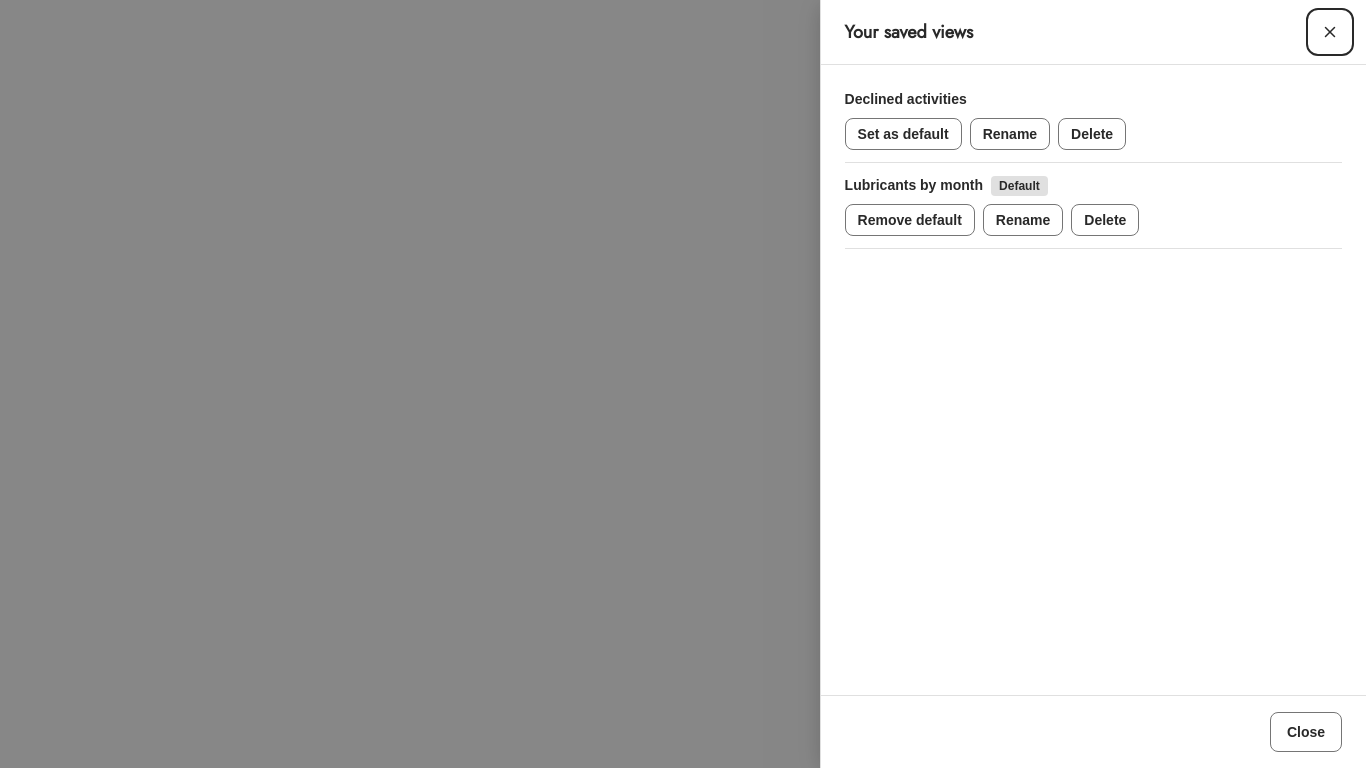
Scenario: ManageViewsPanel (US6, FR-031) › deletes a view after asking, and Undo saves it again (FR-031)
Click the button named "Delete Declined activities". click: (1092, 134)
box: [1058, 118, 1126, 150]
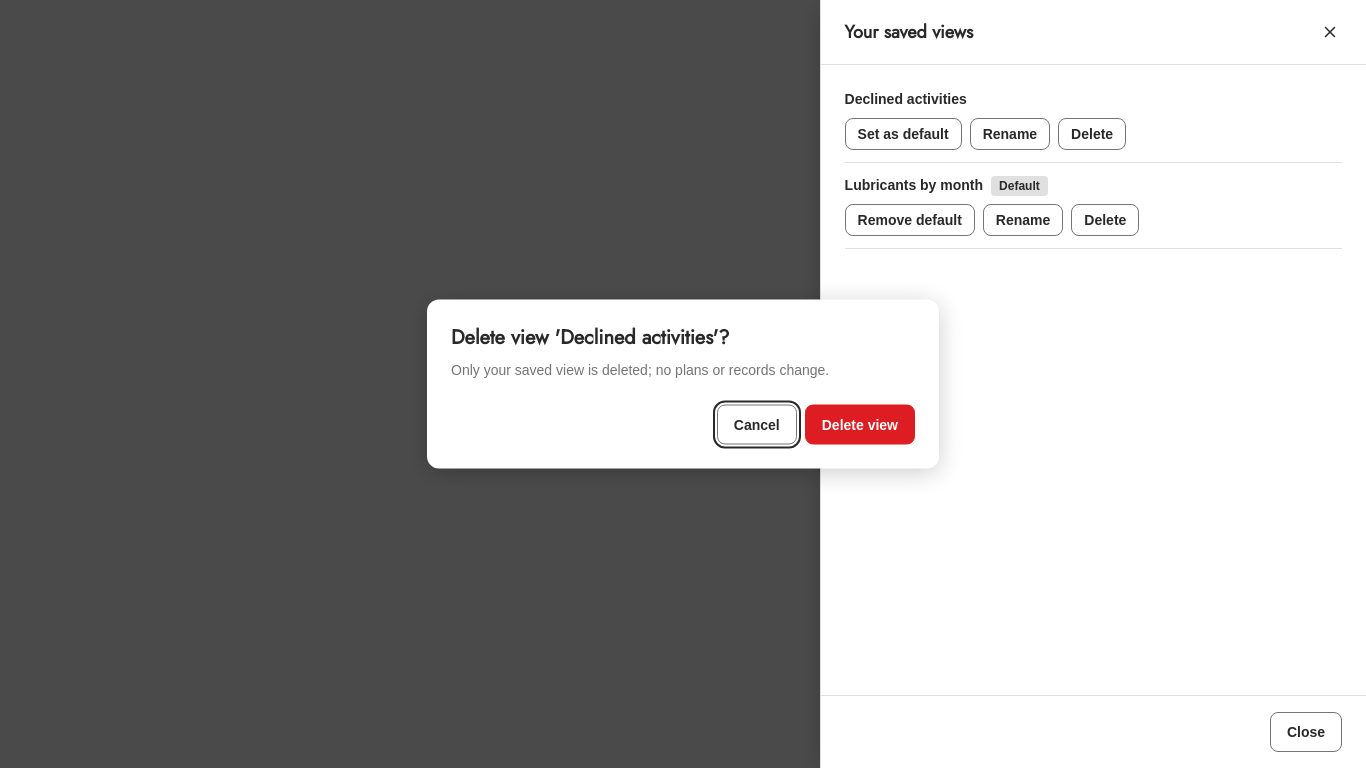
expect the dialog "Delete view 'Declined activities'?" shows "Only your saved view is deleted; no plans or records change.": met, box [451, 362, 829, 378]
Click the button "Delete view". click: (860, 424)
box: [805, 404, 915, 444]
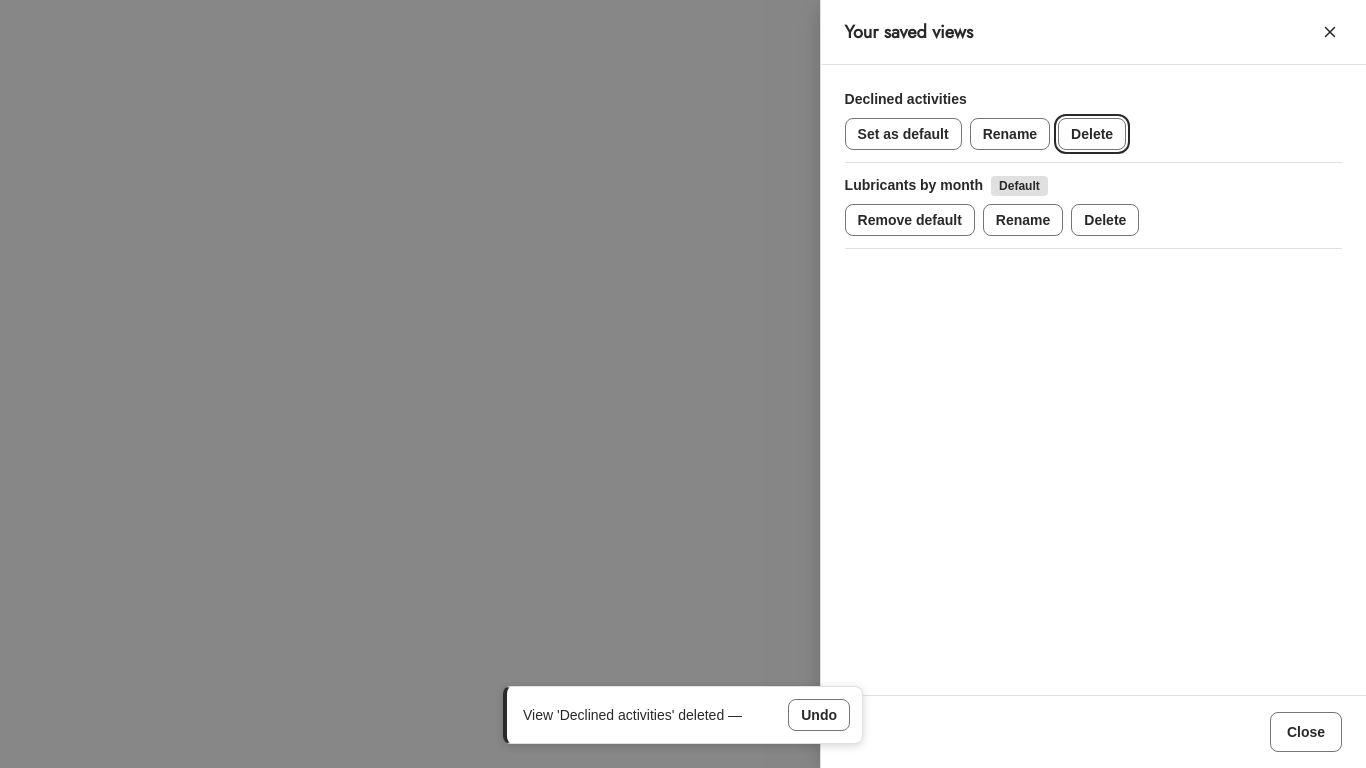
expect the text "View 'Declined activities' deleted" is shown: met, box [523, 706, 728, 722]
Click the button "Undo". click: (819, 715)
box: [788, 699, 850, 731]
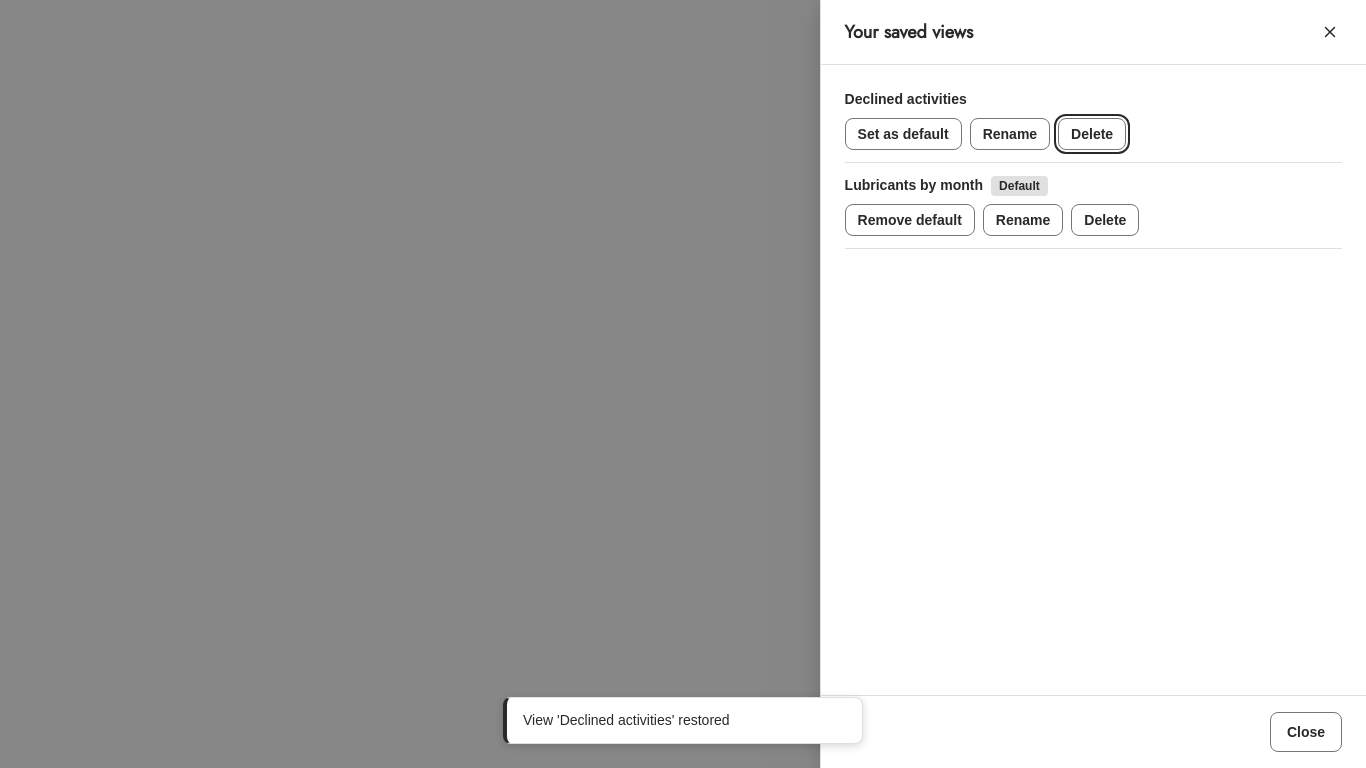
expect the text "View 'Declined activities' restored" is shown: met, box [523, 712, 730, 728]
